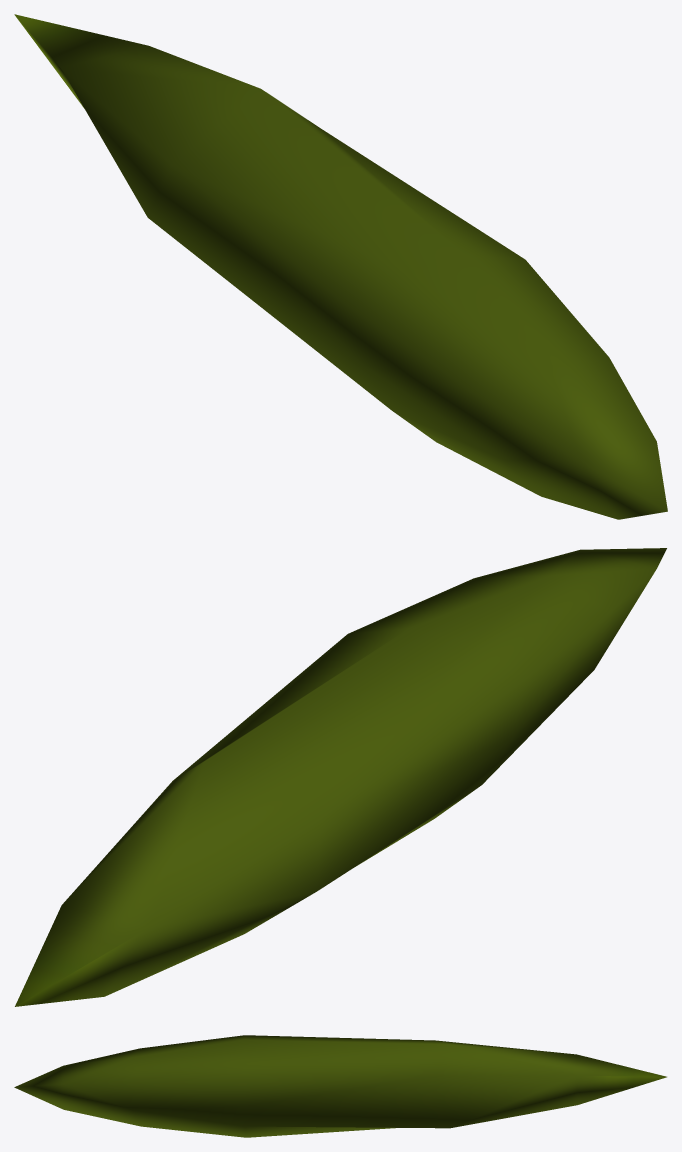
File: ant6.obj
The picture shows the model from 3 angles, top to bottom: view 1: azimuth 30°, elevation 25°; view 2: azimuth 150°, elevation 25°; view 3: azimuth 270°, elevation 25°; orthographic projection. The views are drawn at different scales.
Visible parts, largest first — view 1: ColobotMesh_1_ColobotMesh_; view 2: ColobotMesh_1_ColobotMesh_; view 3: ColobotMesh_1_ColobotMesh_.
Boxes of the visible parts, x1=… form: ColobotMesh_1_ColobotMesh_: x1=14, y1=14, x2=667, y2=519; ColobotMesh_1_ColobotMesh_: x1=15, y1=548, x2=666, y2=1006; ColobotMesh_1_ColobotMesh_: x1=14, y1=1035, x2=666, y2=1137.
Size of the model in its own units: 0.4966 by 0.5298 by 3.15.
